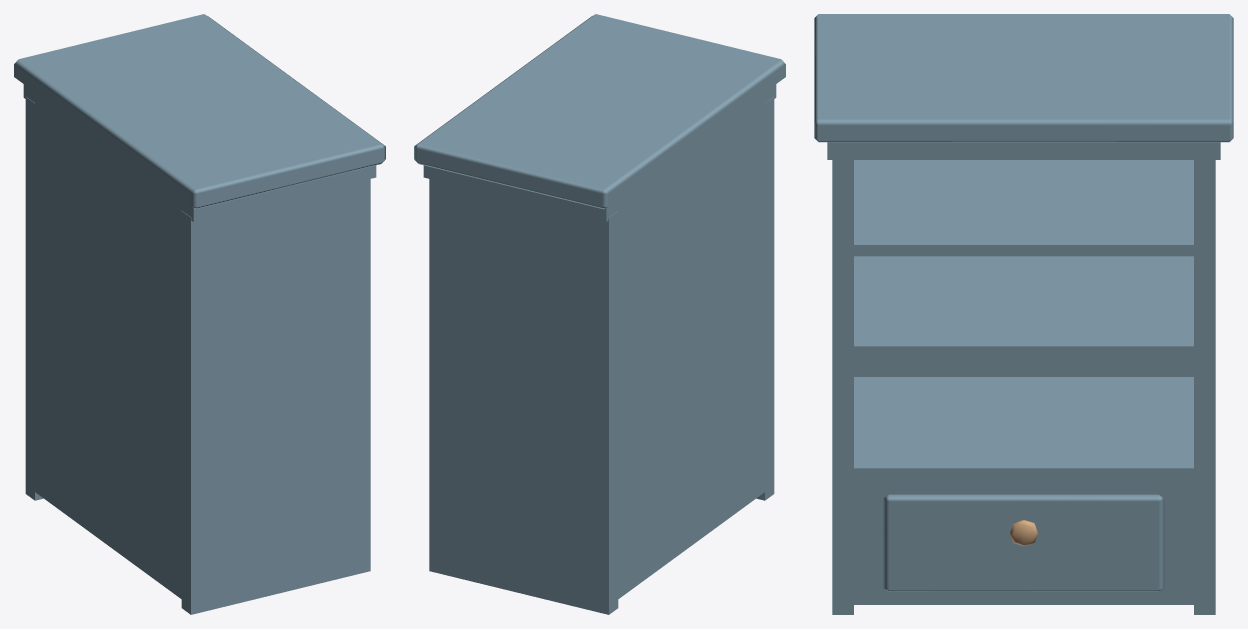
The model's file is kitchen-shelf-transformed.glb.
The picture shows the model from 3 angles, left to right: view 1: azimuth 30°, elevation 25°; view 2: azimuth 150°, elevation 25°; view 3: azimuth 270°, elevation 25°; orthographic projection. The views are drawn at different scales.
Visible parts, largest first — view 1: Cube 57.002, Cube 62.003, Cube 61.002; view 2: Cube 57.002, Cube 62.003, Cube 61.002; view 3: Cube 57.002, Cube 62.003, Cube 59.003, Cube 60.004, Cube 63.004, Cube 61.002, Cube 57.001.
Part boxes in pixels (bbox=[...]): Cube 57.002: bbox=[25, 97, 370, 614]; Cube 62.003: bbox=[14, 14, 385, 209]; Cube 61.002: bbox=[23, 84, 376, 221]; Cube 57.002: bbox=[429, 97, 774, 614]; Cube 62.003: bbox=[414, 14, 785, 209]; Cube 61.002: bbox=[423, 84, 776, 221]; Cube 57.002: bbox=[832, 160, 1215, 614]; Cube 62.003: bbox=[814, 14, 1233, 142]; Cube 59.003: bbox=[846, 256, 1201, 357]; Cube 60.004: bbox=[846, 160, 1201, 256]; Cube 63.004: bbox=[883, 494, 1164, 591]; Cube 61.002: bbox=[827, 142, 1220, 159]; Cube 57.001: bbox=[1009, 520, 1038, 545].
Size of the model in its own units: 1.17 by 2.33 by 1.78.
